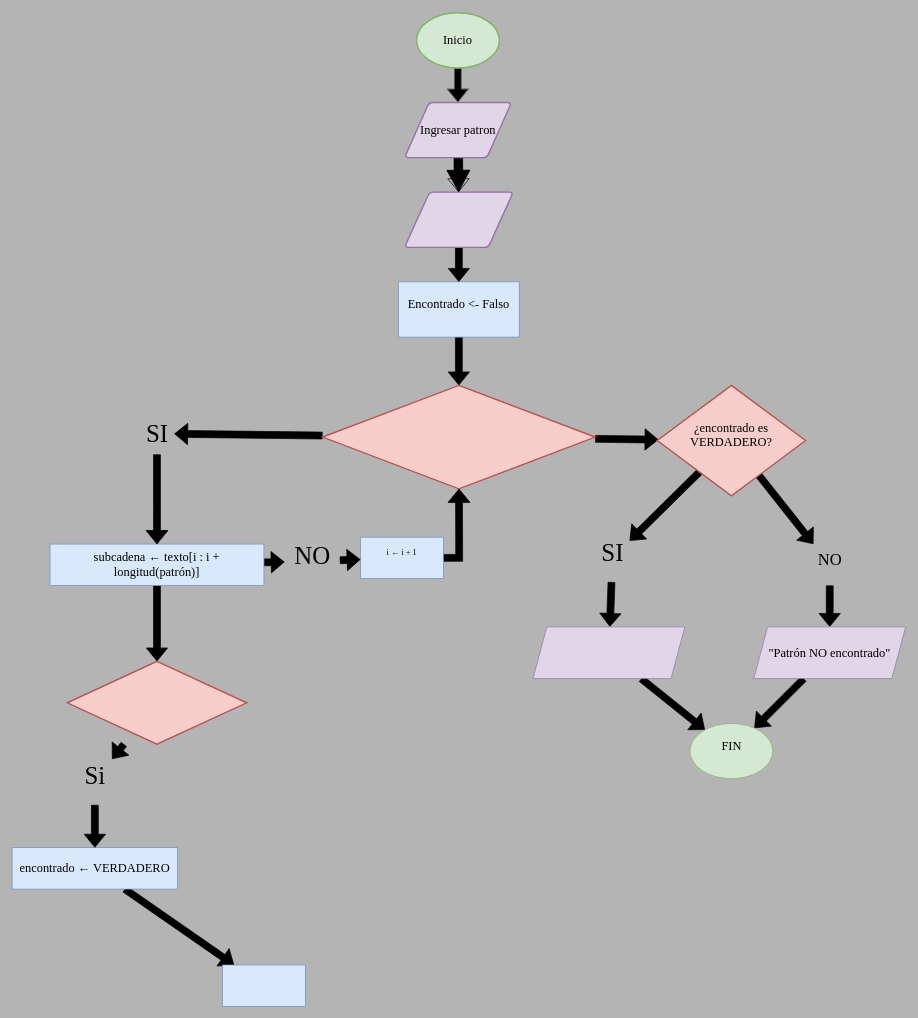
Some shapes in this 918 by 1018 pixel diagram are drawn without their labels. The shapes that lost their labels are listed below. From the top down, each one's centre as x and y in pixels, then its label:
the point at 459,219: Ingresar texto
the point at 458,436: ¿i < longitud(texto) - longitud(patrón)?
the point at 608,652: "Patrón encontrado"
the point at 156,702: ¿subcadena == patrón?
the point at 263,985: Salir del bucle
